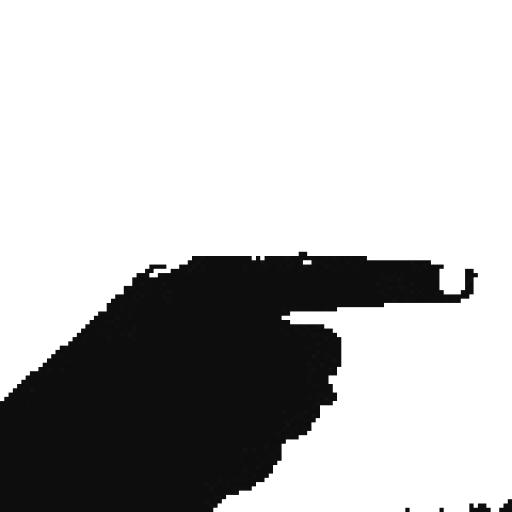index_left: (0, 250, 479, 460)
